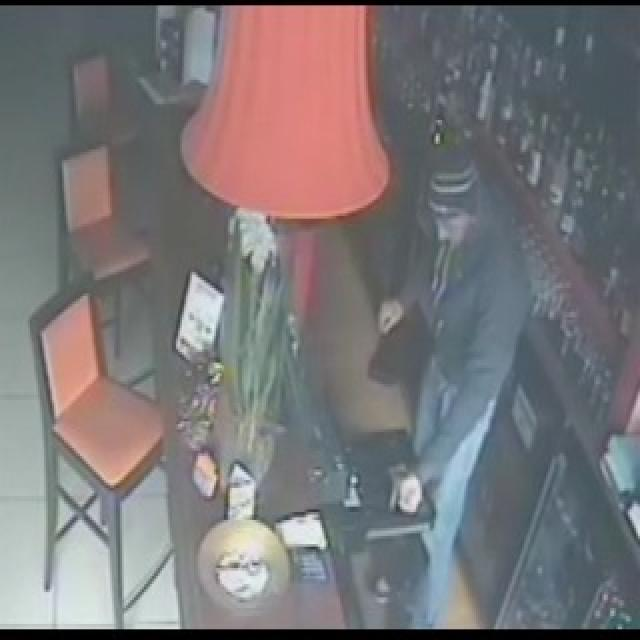thief: (402, 134, 538, 384)
